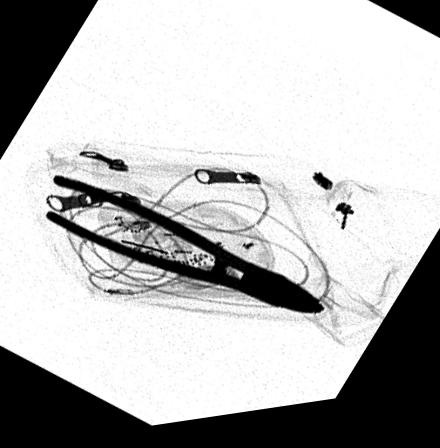Pliers: (40, 171, 332, 327)
